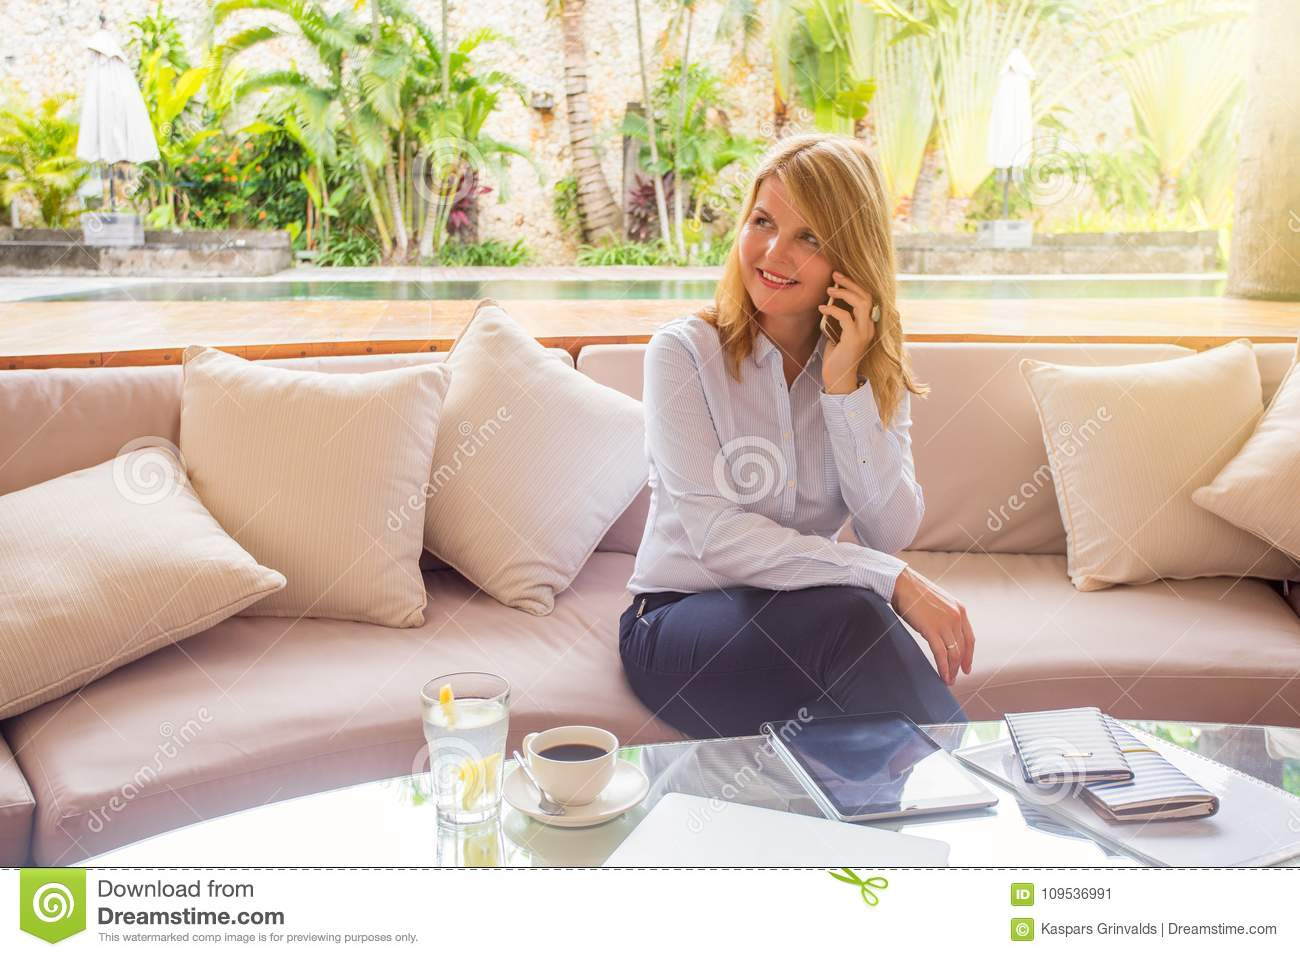phone: (820, 270, 851, 351)
talk: (737, 205, 869, 388)
